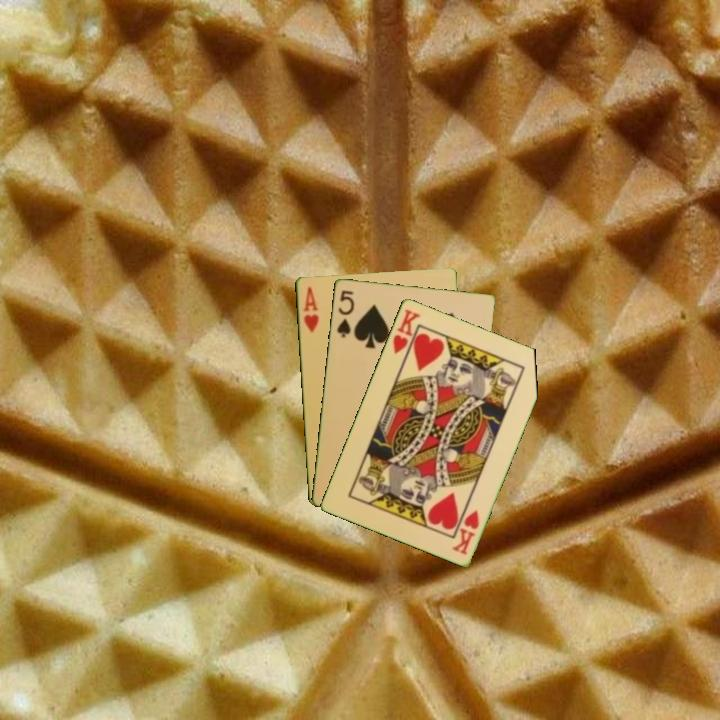5s: (333, 286, 357, 340)
Ah: (300, 283, 321, 335)
Kh: (389, 305, 423, 363), (448, 506, 482, 557)
